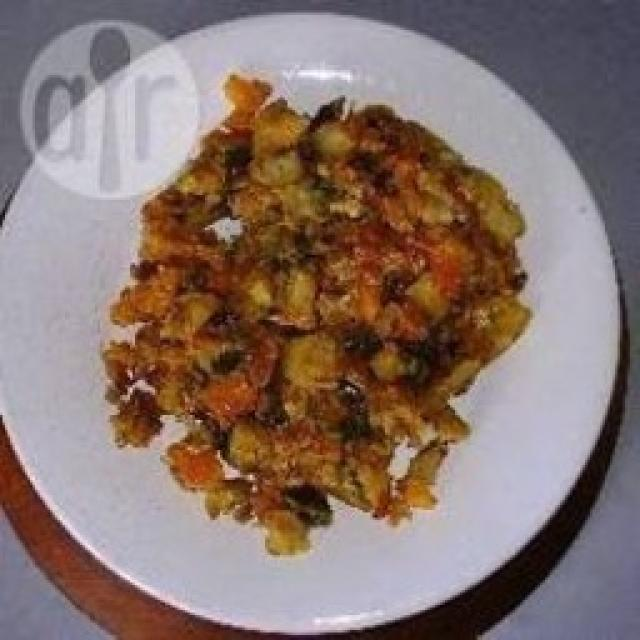Kafteji: (105, 75, 530, 553)
